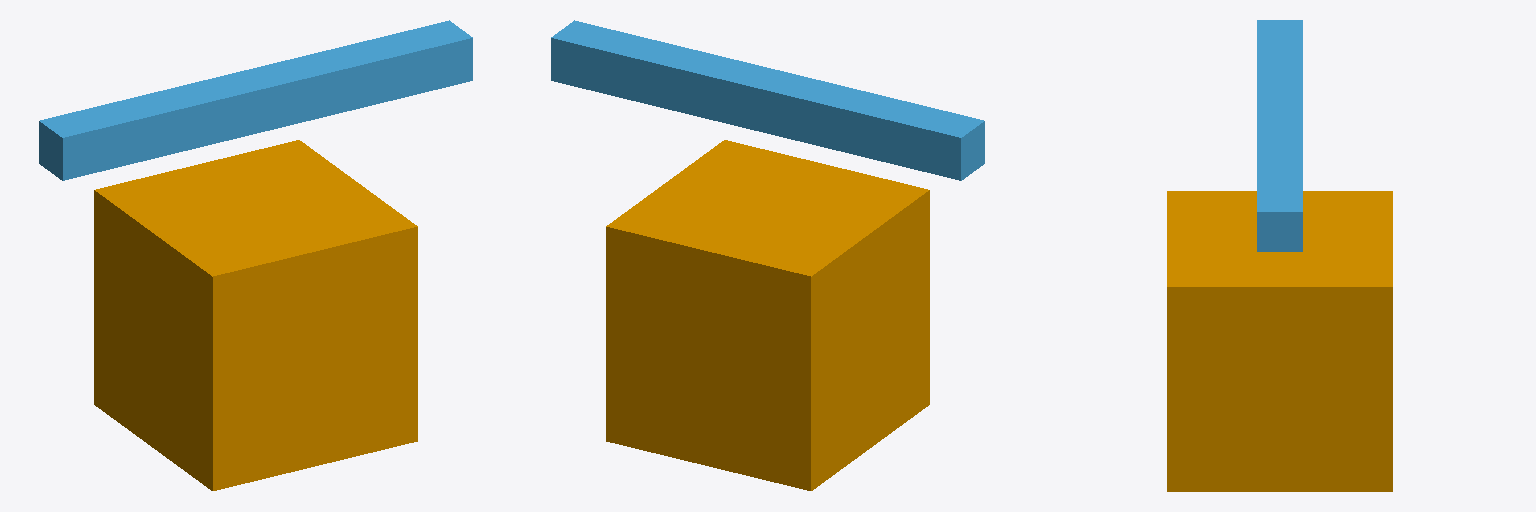
The robot description file, URDF, robot "test":
<?xml version="1.0" encoding="utf-8"?>

<robot name="test">
  <!-- Used for fixing robot to Gazebo 'base_link' -->
  <!-- <link name="world"/>

  <joint name="fixed" type="fixed">
    <parent link="world"/>
    <child link="base_link"/>
  </joint> -->

  <link name="base_link">
    <visual>
      <origin xyz="0 0 1" rpy="0 0 0"/>
      <geometry>
        <box size="0.5 0.5 0.5"/>
      </geometry>
    </visual>
    <collision>
      <origin xyz="0 0 1" rpy="0 0 0"/>
      <geometry>
        <box size="0.5 0.5 0.5"/>
      </geometry>
    </collision>
    <inertial>
      <origin xyz="0 0 1" rpy="0 0 0"/>
      <mass value="3"/>
      <inertia ixx="0.1" ixy="0.0" ixz="0.0" iyy="0.1" iyz="0.0" izz="0.1"/>
    </inertial>
    <gazebo>
      <mu1>0</mu1> <!-- Increased dynamic friction coefficient -->
      <mu2>0.3</mu2> <!-- Increased static friction coefficient -->
    </gazebo>
  </link>

  <joint name="joint1" type="revolute">
    <parent link="base_link"/>
    <child link="link1"/>
    <origin xyz="0 0 1.5" rpy="0 0 0"/>
    <axis xyz="0 0 1"/>
    <limit lower="-3.14" upper="3.14" effort="10" velocity="1"/>
    <dynamics damping="0" friction="0.2"/>
  </joint>

  <link name="link1">
    <visual>
      <origin xyz="0 0 0" rpy="0 0 0"/>
      <geometry>
        <box size="1 0.1 0.1"/>
      </geometry>
    </visual>
    <collision>
      <origin xyz="0 0 0" rpy="0 0 0"/>
      <geometry>
        <box size="1 0.1 0.1"/>
      </geometry>
    </collision>
    <inertial>
      <origin xyz="0 0 0" rpy="0 0 0"/>
      <mass value="3"/>
      <inertia ixx="0.1" ixy="0" ixz="0" iyy="0.1" iyz="0" izz="0.1"/>
    </inertial>
    <gazebo>
      <mu1>0</mu1> <!-- Increased dynamic friction coefficient -->
      <mu2>0.3</mu2> <!-- Increased static friction coefficient -->
    </gazebo>
  </link>

  <!-- ros_control plugin -->
  <gazebo>
    <plugin name="gazebo_ros_control" filename="libgazebo_ros_control.so">
      <robotNamespace>/test</robotNamespace>
      <robotSimType>gazebo_ros_control/DefaultRobotHWSim</robotSimType>
    </plugin>
  </gazebo>

  <gazebo>
    <plugin name="variable_stiffness_plugin" filename="libvariable_stiffness_plugin.so">
      <robotNamespace>/test</robotNamespace>
      <jointName>joint1</jointName>
    </plugin>
  </gazebo>

  <transmission name="tran1">
    <type>transmission_interface/SimpleTransmission</type>
    <joint name="joint1">
      <hardwareInterface>hardware_interface/EffortJointInterface</hardwareInterface>
    </joint>
    <actuator name="motor1">
      <hardwareInterface>hardware_interface/EffortJointInterface</hardwareInterface>
      <mechanicalReduction>1</mechanicalReduction>
    </actuator>
  </transmission>
</robot>

--- What the picture shows (computed from the rendered views, not written in the file) ---
Views: 3 orthographic renders of the robot side by side, from view 1: azimuth 30°, elevation 25°; view 2: azimuth 150°, elevation 25°; view 3: azimuth 270°, elevation 25°.
Robot: test — 2 links, 1 joints (1 revolute); root link base_link; default pose: all joints at 0.
Visible links, largest first — view 1: base_link, link1; view 2: base_link, link1; view 3: base_link, link1.
Link boxes in pixels (x1,y1,x2,y2): base_link: (94, 140, 417, 490); link1: (39, 20, 472, 180); base_link: (606, 140, 929, 490); link1: (551, 20, 984, 180); base_link: (1167, 191, 1392, 491); link1: (1257, 20, 1302, 251).
Size in the robot's own frame: 1 by 0.5 by 0.8 metres.
Geometry: primitives only (box / cylinder / sphere), no mesh files.